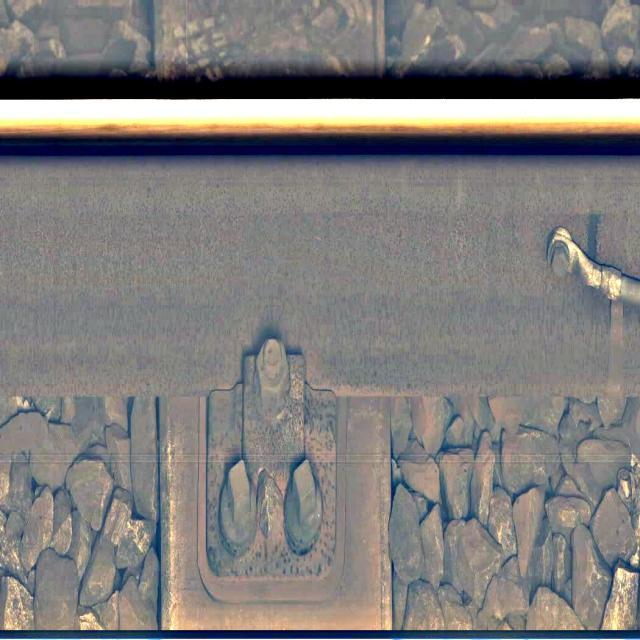Good Fasteners: (206, 339, 337, 581)
